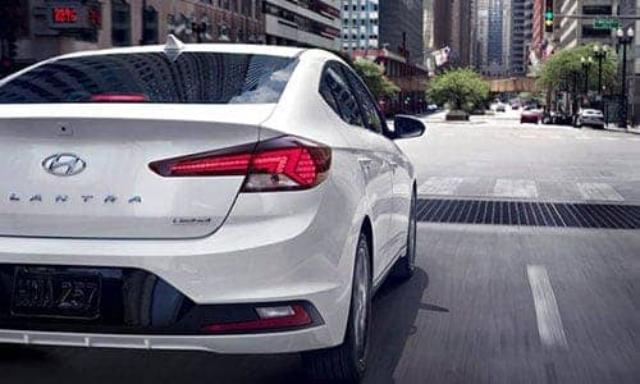hyundai: (0, 33, 418, 382)
